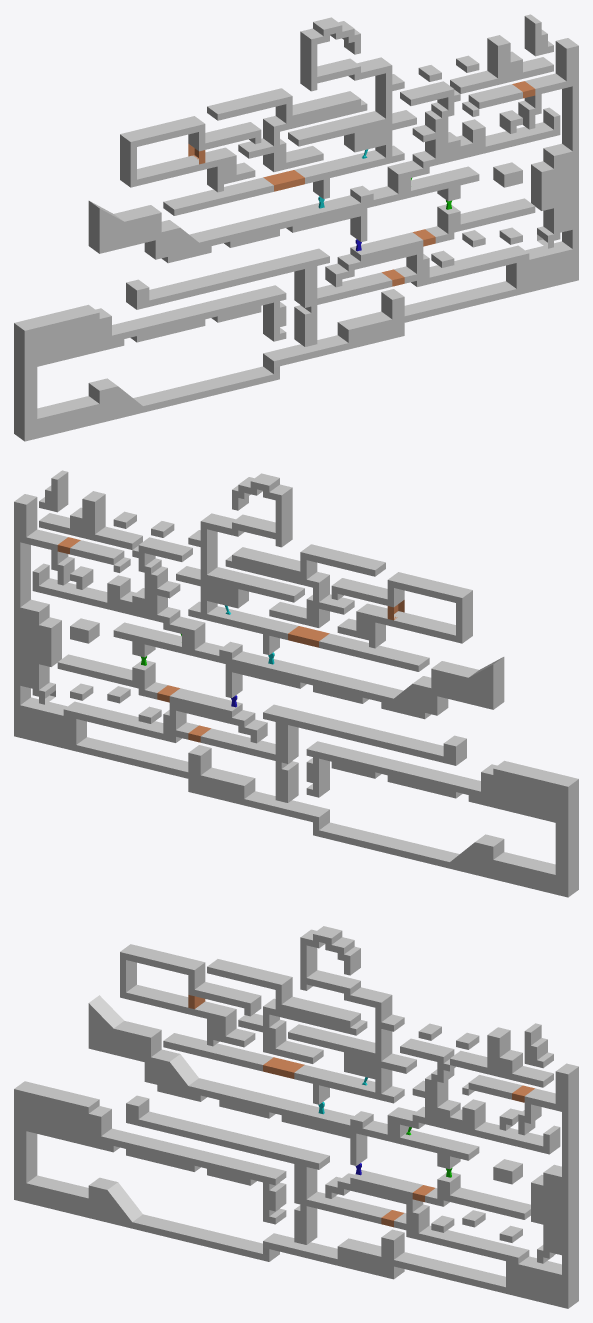
Rendered from Level_3.fbx.
The picture shows the model from 3 angles, top to bottom: view 1: azimuth 30°, elevation 25°; view 2: azimuth 150°, elevation 25°; view 3: azimuth 330°, elevation 25°; orthographic projection.
Parts seen in each view (by area): view 1: Level_3, Breakables_lv 3; view 2: Level_3, Breakables_lv 3; view 3: Level_3, Breakables_lv 3.
Boxes of the visible parts, box(x1,y1,x2,y2) form: Level_3: box(14, 14, 578, 441); Breakables_lv 3: box(188, 81, 535, 286); Level_3: box(14, 470, 578, 897); Breakables_lv 3: box(57, 537, 404, 742); Level_3: box(14, 926, 578, 1308); Breakables_lv 3: box(188, 995, 534, 1227).
Bounding box in the file's own units: 89 × 52 × 3.02.
